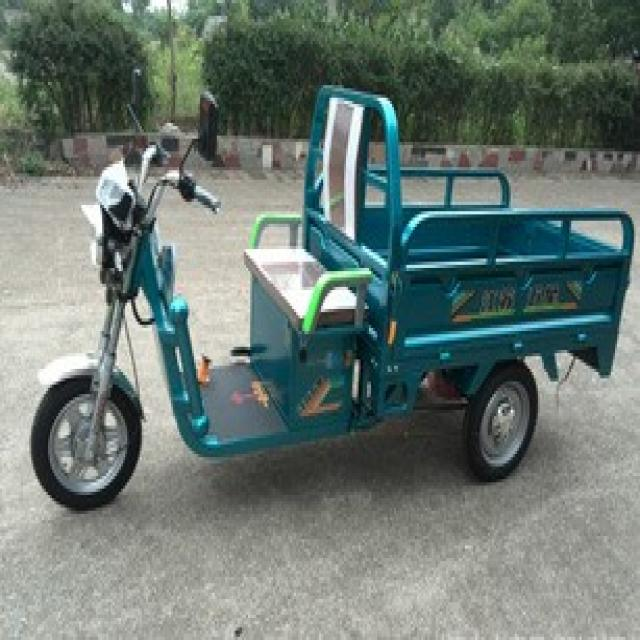tricycle: (27, 66, 638, 514)
